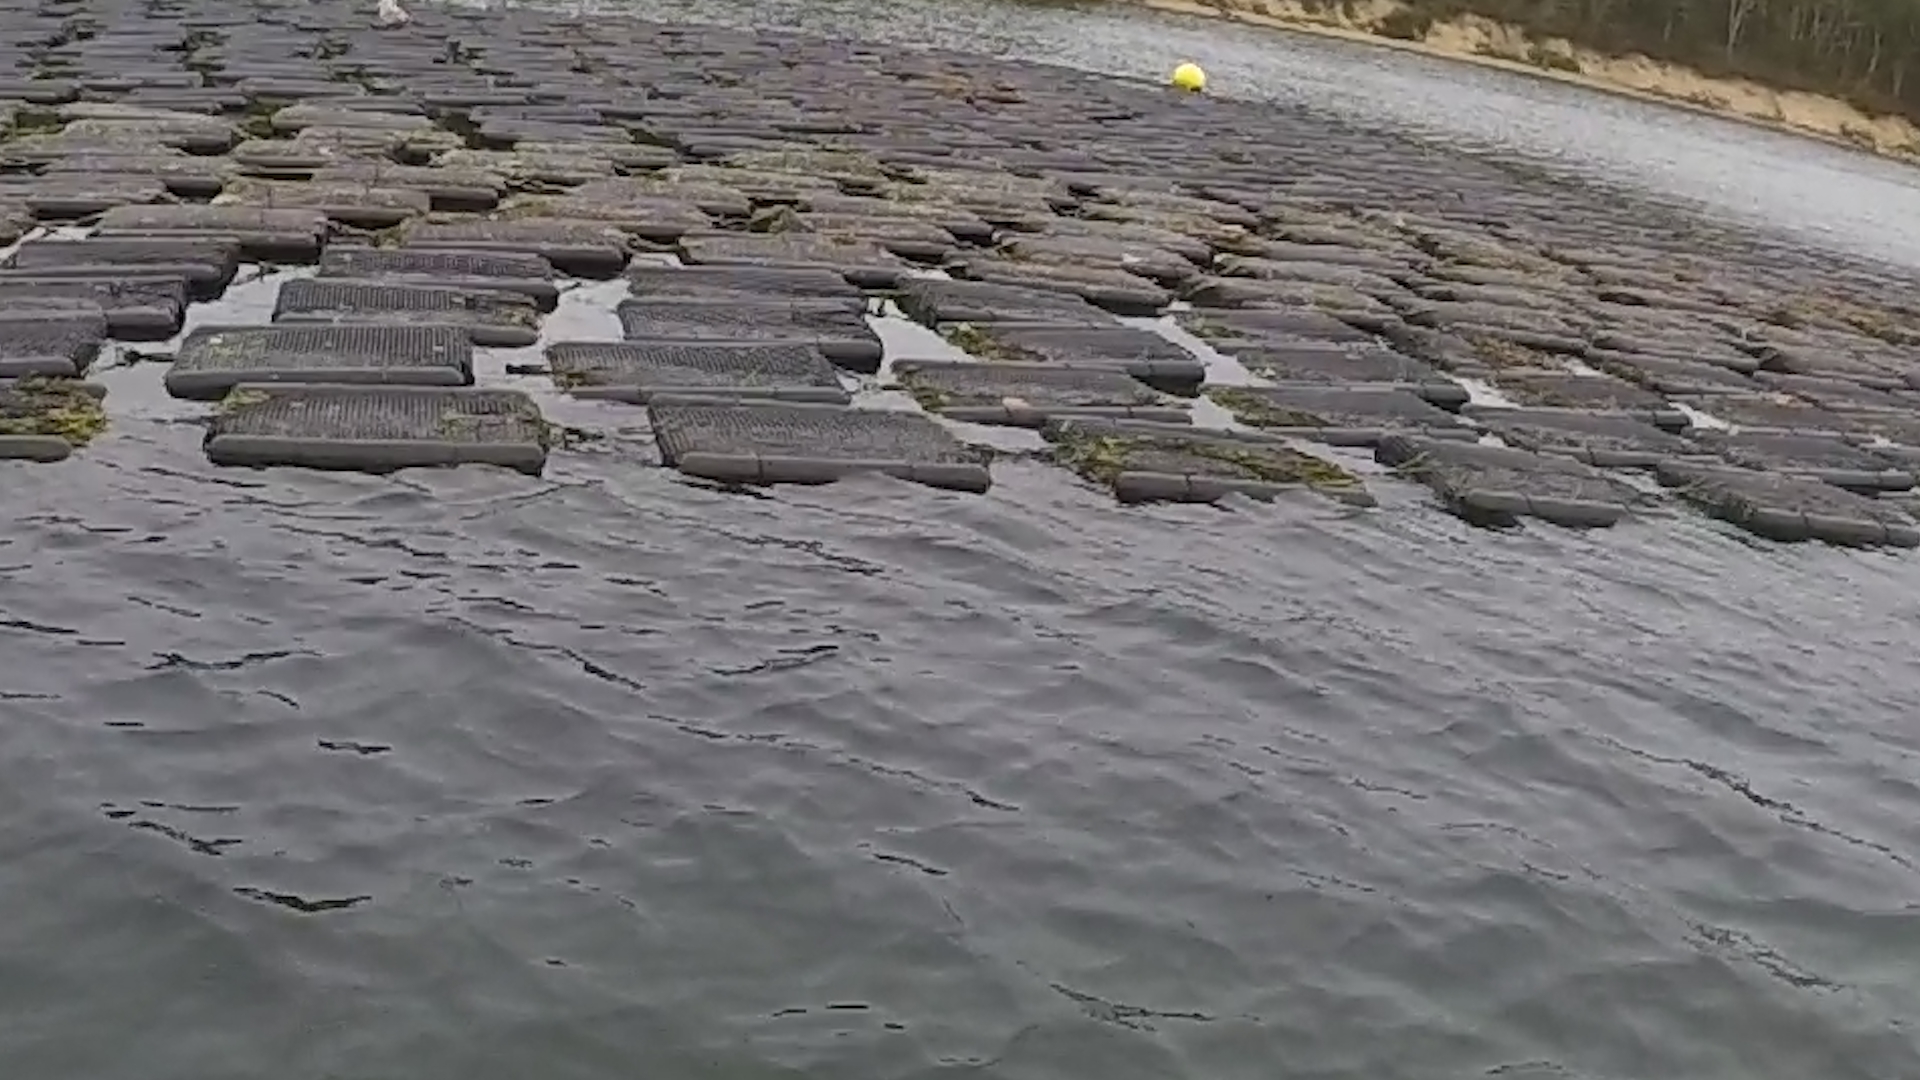bag: (644, 392, 998, 496), (206, 375, 549, 469), (1040, 415, 1374, 506)
